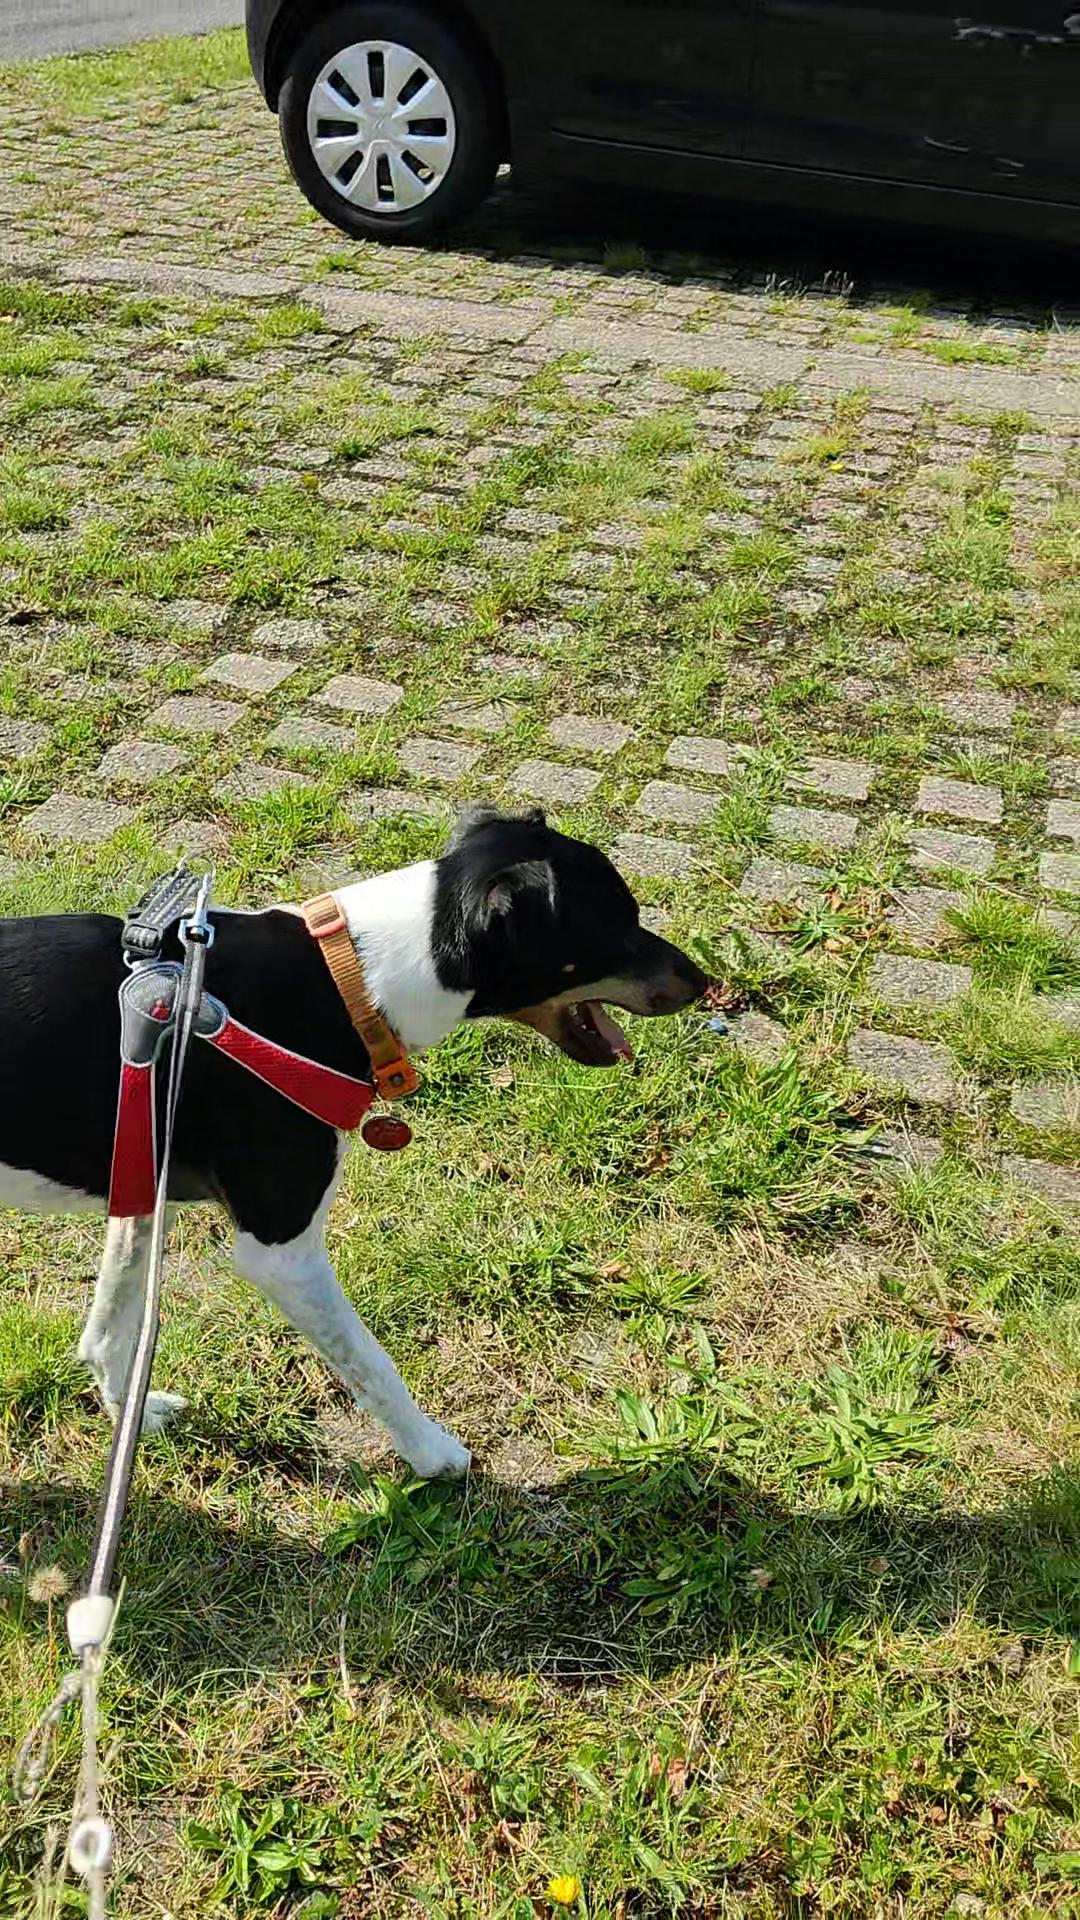Dog: (0, 785, 735, 1506)
